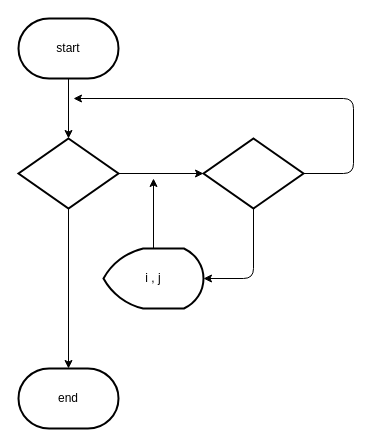
Image size: 379x446. Some labels were removed from this diagram. The centre of each missing label's shape, as x and y in pixels:
"con1" belongs at [68,173].
"con2" belongs at [253,173].
